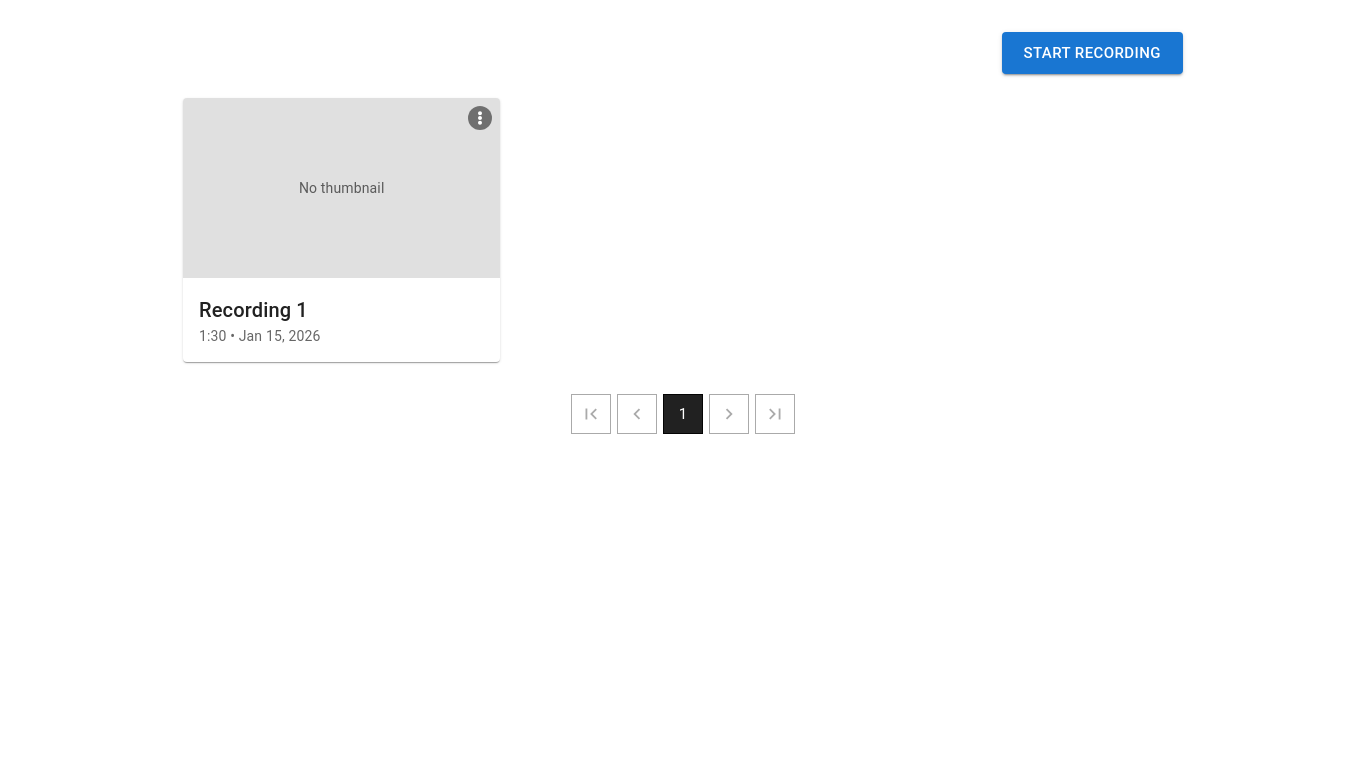
Test case: RecordingCard Menu › delete action › shows confirmation dialog when Delete is clicked
Step 1. Click the button with test id "recording-card-menu-button-rec-1" → (480, 118), box [468, 106, 492, 130]
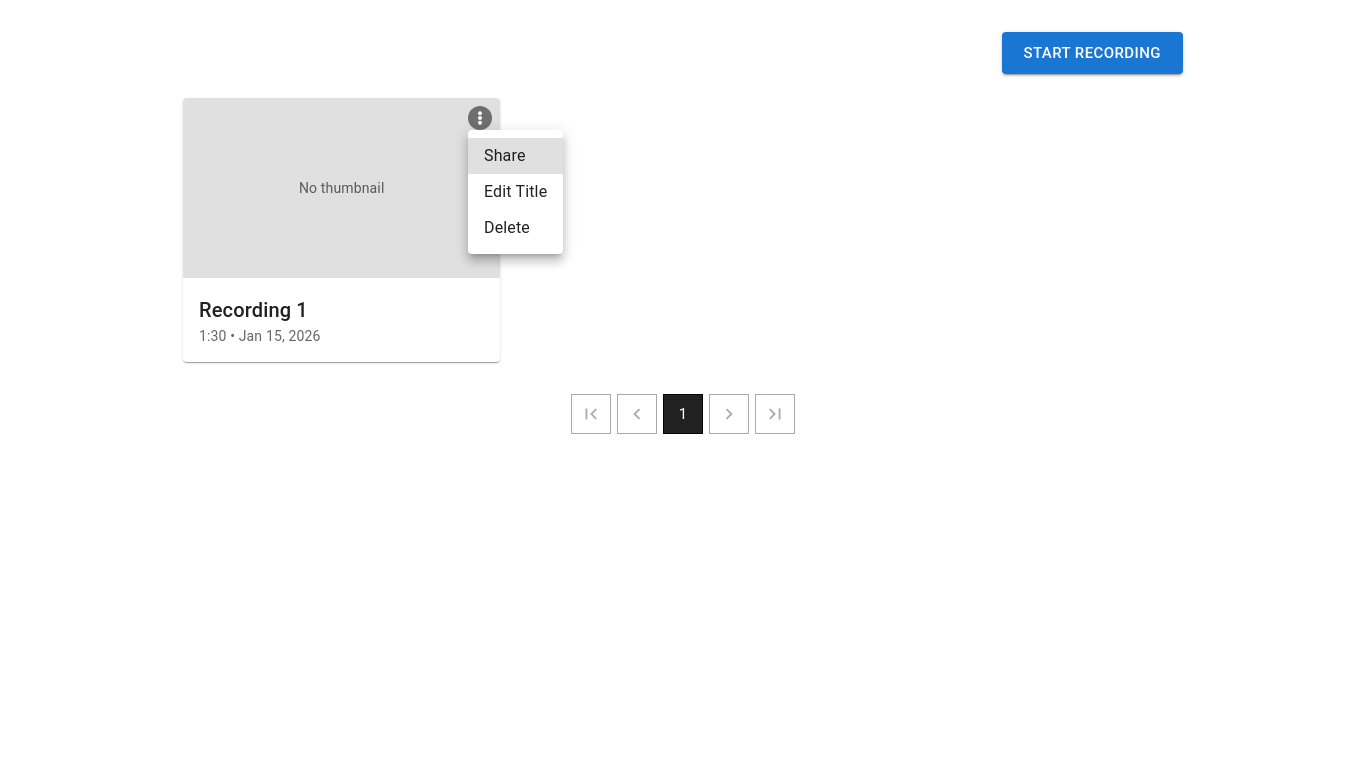
Now the menu item "Delete" is shown
Step 2. Click the menu item "Delete" → (507, 228), box [484, 218, 530, 237]
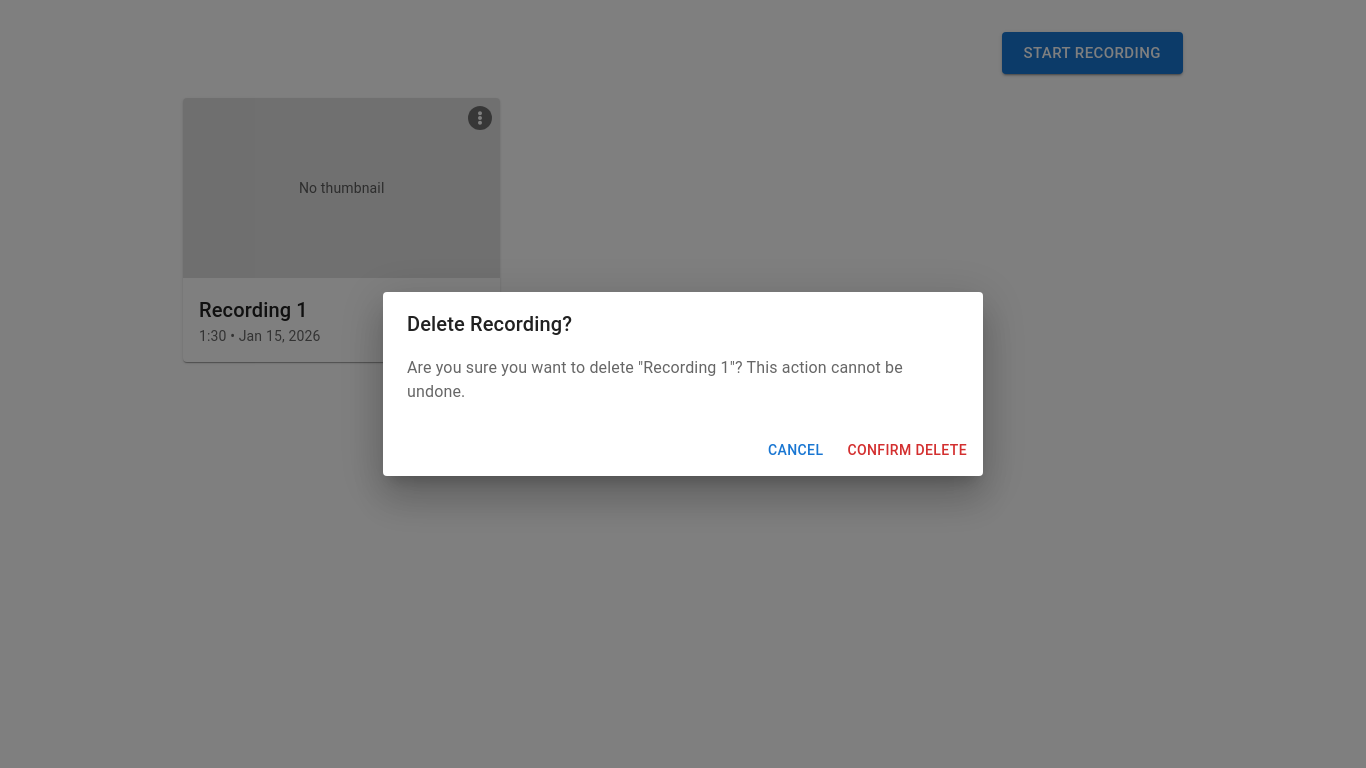
Now the element with test id "delete-confirmation-dialog" is shown
